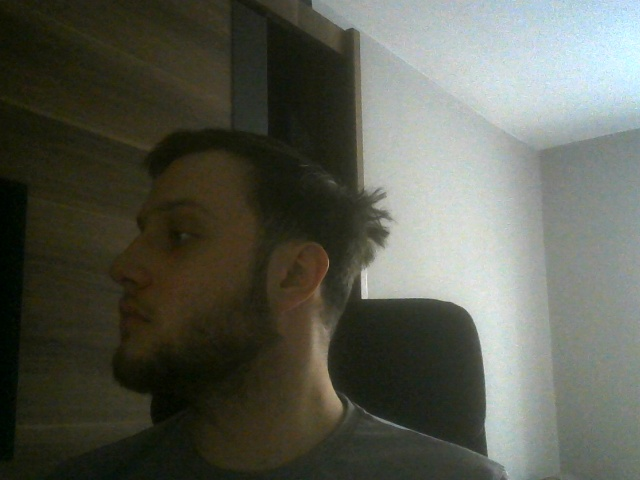neutral: (113, 127, 356, 391)
